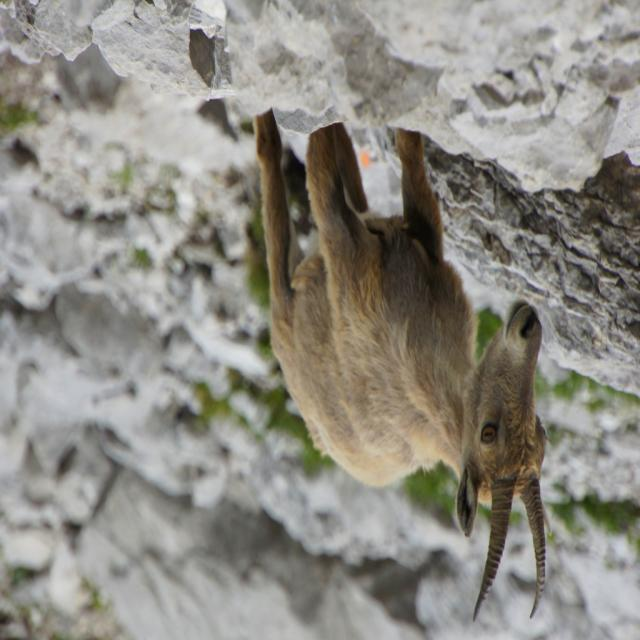Goat: (253, 111, 553, 624)
